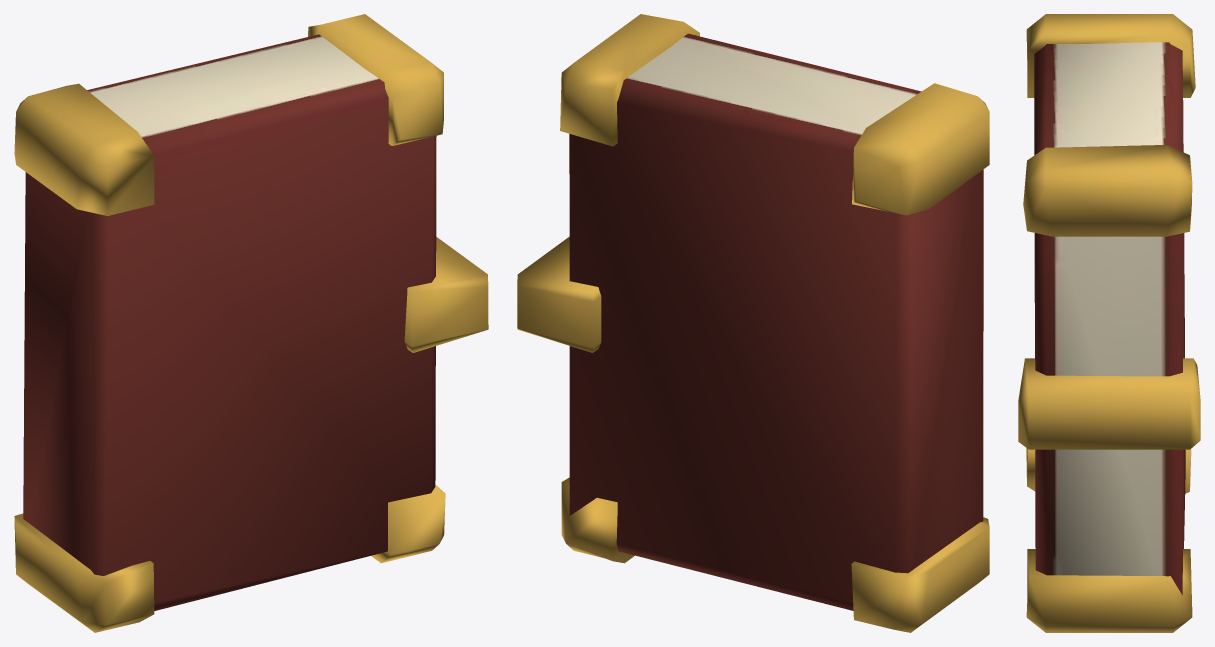
File: mage-spellbook.glb
3 views of the same model, side by side, from view 1: azimuth 30°, elevation 25°; view 2: azimuth 150°, elevation 25°; view 3: azimuth 270°, elevation 25° (orthographic). The views are drawn at different scales.
Visible parts, largest first — view 1: book; view 2: book; view 3: book.
Boxes of the visible parts, x1,y1,x2,y2 form: book: [14, 14, 488, 632]; book: [517, 14, 989, 632]; book: [1018, 14, 1200, 632].
Bounding box in the file's own units: 0.1141 × 0.135 × 0.0476.
Materials: 1 (1 with a texture image).
